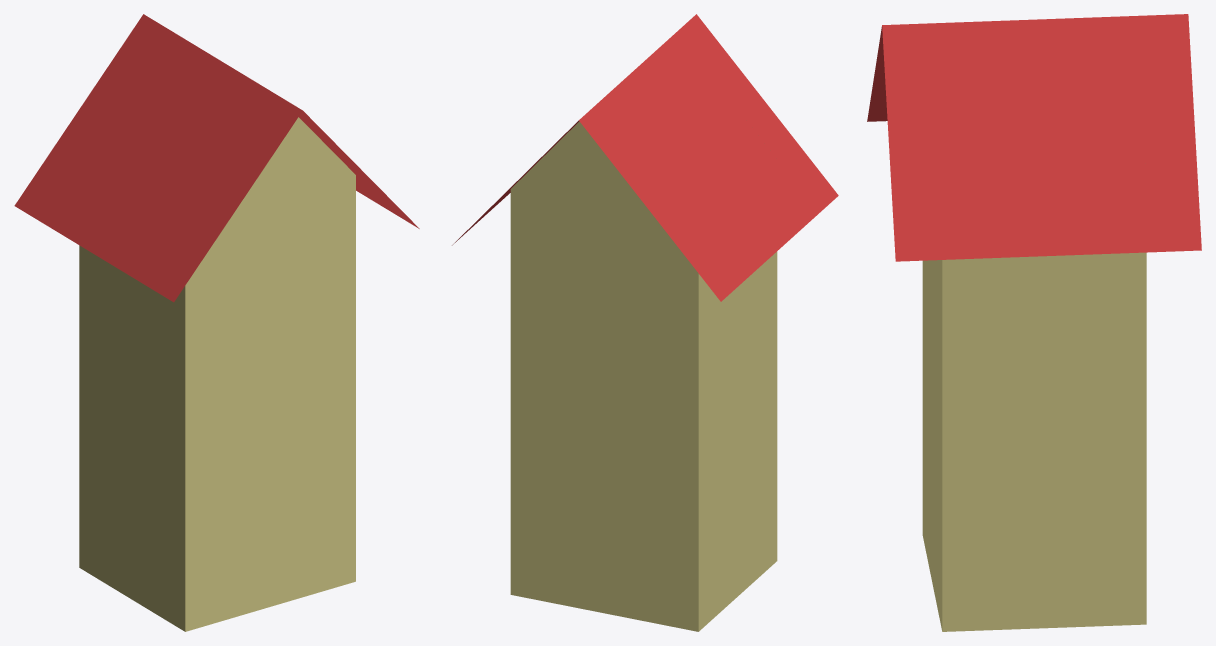
3 views of the same model, side by side, from view 1: azimuth 30°, elevation 25°; view 2: azimuth 150°, elevation 25°; view 3: azimuth 270°, elevation 25° (orthographic). The views are drawn at different scales.
Size of the model in its own units: 3.48 by 3.26 by 6.06.
